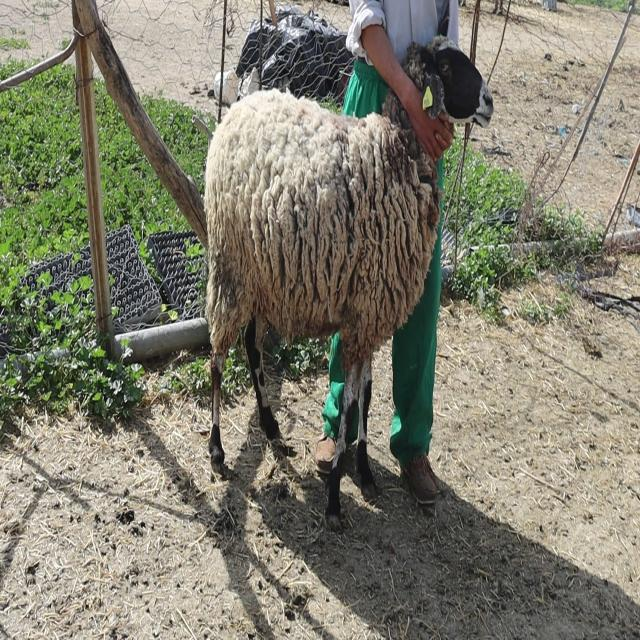Score_5: (204, 89, 440, 525)
